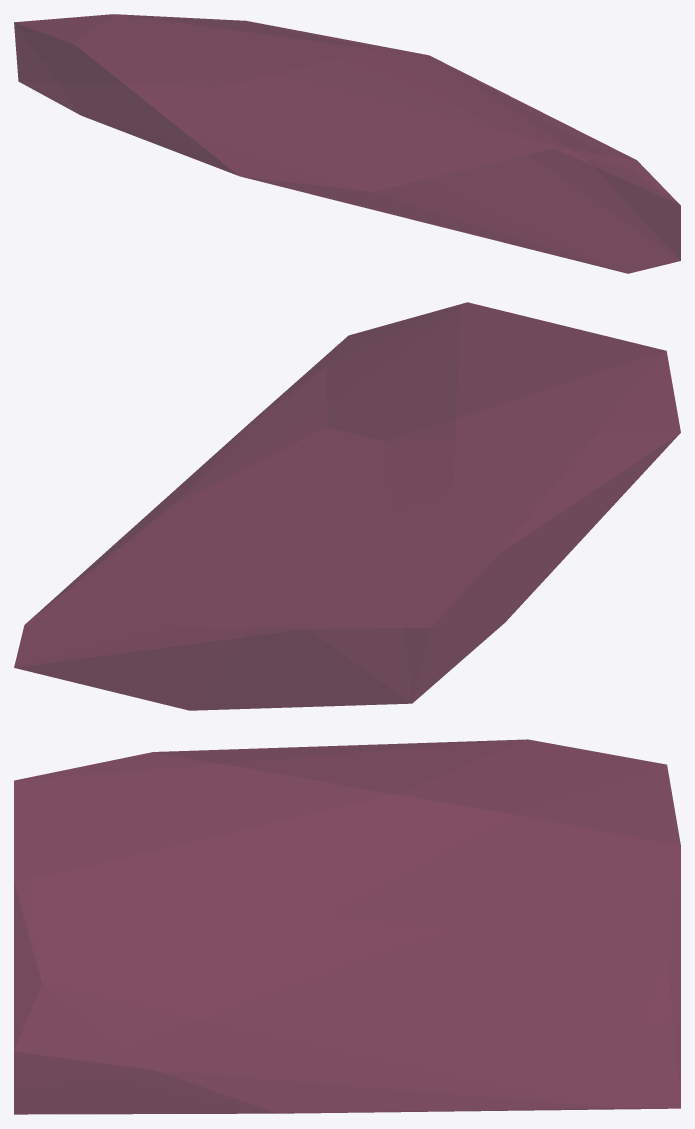
3 views of the same model, one above another, from view 1: azimuth 30°, elevation 25°; view 2: azimuth 150°, elevation 25°; view 3: azimuth 270°, elevation 25° (orthographic). The views are drawn at different scales.
Parts seen in each view (by area): view 1: Shape_IndexedFaceSet.068_Shape_IndexedFaceSet.666; view 2: Shape_IndexedFaceSet.068_Shape_IndexedFaceSet.666; view 3: Shape_IndexedFaceSet.068_Shape_IndexedFaceSet.666.
Part boxes in pixels (x1,y1,x2,y2): Shape_IndexedFaceSet.068_Shape_IndexedFaceSet.666: (14,14,680,273); Shape_IndexedFaceSet.068_Shape_IndexedFaceSet.666: (14,302,680,710); Shape_IndexedFaceSet.068_Shape_IndexedFaceSet.666: (14,739,680,1114).
Bounding box in the file's own units: 0.0708 × 0.0242 × 0.0894.
